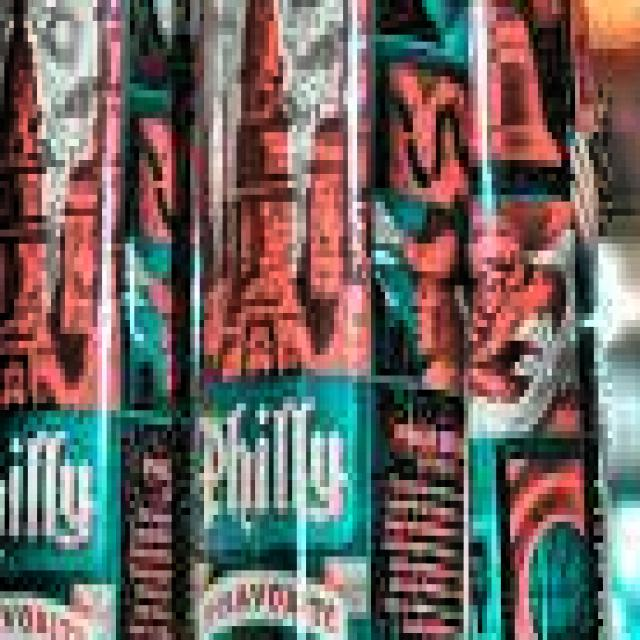metal: (176, 0, 478, 640), (0, 0, 218, 640), (445, 0, 626, 640)
